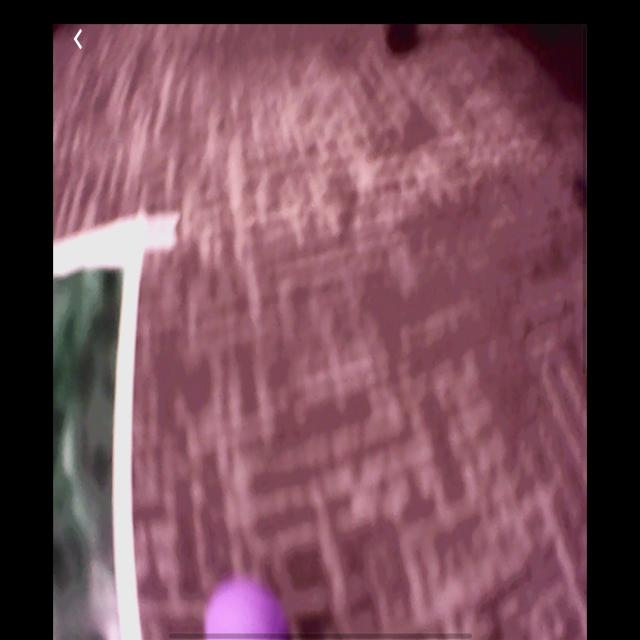ball: (203, 574, 292, 639)
